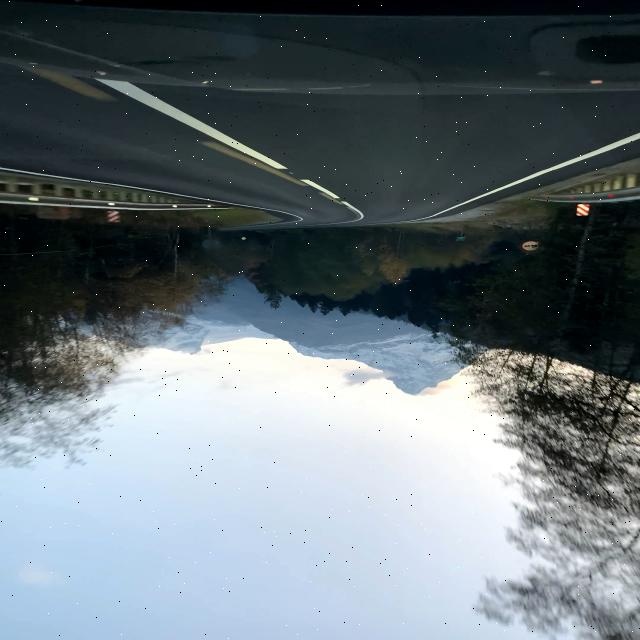lane: (98, 79, 287, 169), (303, 181, 338, 199)
road: (2, 4, 639, 224)
